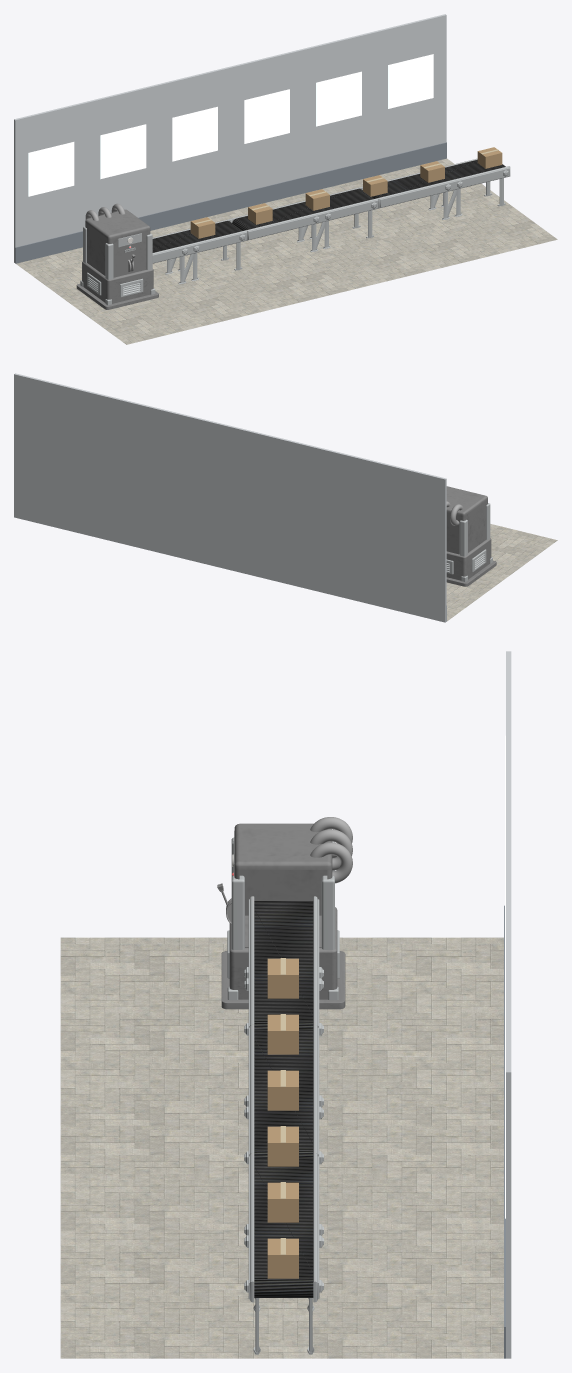
Rendered from MachineConveyorBelt.glb.
3 views of the same model, one above another, from view 1: azimuth 30°, elevation 25°; view 2: azimuth 150°, elevation 25°; view 3: azimuth 270°, elevation 25° (orthographic). The views are drawn at different scales.
Visible parts, largest first — view 1: Factory_Backdrop, Floor_01, Floor_01.002, Floor_01.001, MachineBody_Top, Belt.001, Side_PlateCover_01.002, Side_PlateCover_01.001, MachineBody_Bottom, Belt.002, Side_PlateCover_01, Belt (+7 smaller); view 2: Factory_Backdrop, Floor_01, MachineBody_Top, MachineBody_Bottom, Machine_Base, Top_Corner_04; view 3: Floor_01, Floor_01.002, Floor_01.001, MachineBody_Top, Belt, Belt.002, Factory_Backdrop, Belt.001, MachineBody_Bottom, Box_01, Box_02, Box_03 (+12 smaller).
Part boxes in pixels (box(x1,y1,x2,y2)): Factory_Backdrop: box(14, 14, 446, 263); Floor_01: box(16, 217, 318, 344); Floor_01.002: box(316, 158, 557, 271); Floor_01.001: box(209, 191, 425, 297); MachineBody_Top: box(85, 209, 150, 277); Belt.001: box(232, 188, 373, 230); Side_PlateCover_01.002: box(378, 166, 510, 208); Side_PlateCover_01.001: box(246, 198, 378, 240); MachineBody_Bottom: box(82, 261, 153, 303); Belt.002: box(372, 159, 505, 198); Side_PlateCover_01: box(152, 230, 246, 263); Belt: box(152, 221, 242, 252); Factory_Backdrop: box(14, 373, 446, 622); Floor_01: box(446, 524, 557, 621); MachineBody_Top: box(446, 486, 487, 554); MachineBody_Bottom: box(446, 538, 491, 580); Machine_Base: box(446, 560, 496, 586); Top_Corner_04: box(459, 519, 467, 556); Floor_01: box(60, 937, 503, 1125); Floor_01.002: box(60, 1230, 503, 1358); Floor_01.001: box(60, 1125, 503, 1230); MachineBody_Top: box(234, 823, 332, 947); Belt: box(254, 901, 313, 1029); Belt.002: box(254, 1158, 313, 1297); Factory_Backdrop: box(504, 651, 511, 1358); Belt.001: box(254, 1029, 313, 1157); MachineBody_Bottom: box(229, 907, 337, 999); Box_01: box(267, 1238, 298, 1278); Box_02: box(267, 958, 298, 998); Box_03: box(267, 1014, 298, 1054).
Bounding box in the file's own units: 11.35 × 3.6 × 5.13.
Materials: 30 (25 with a texture image).
